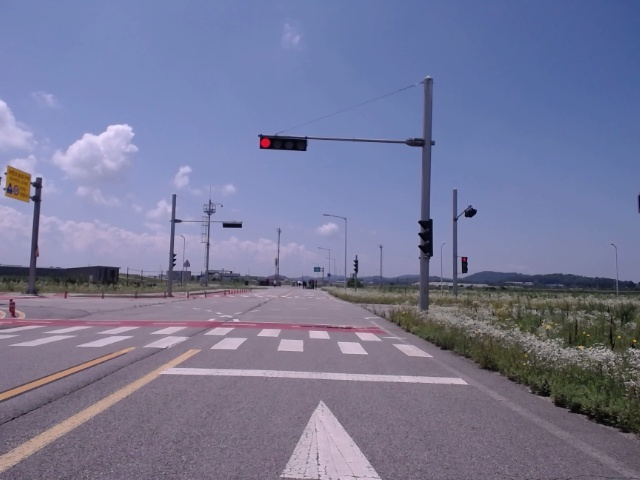red_4: (260, 136, 307, 151)
